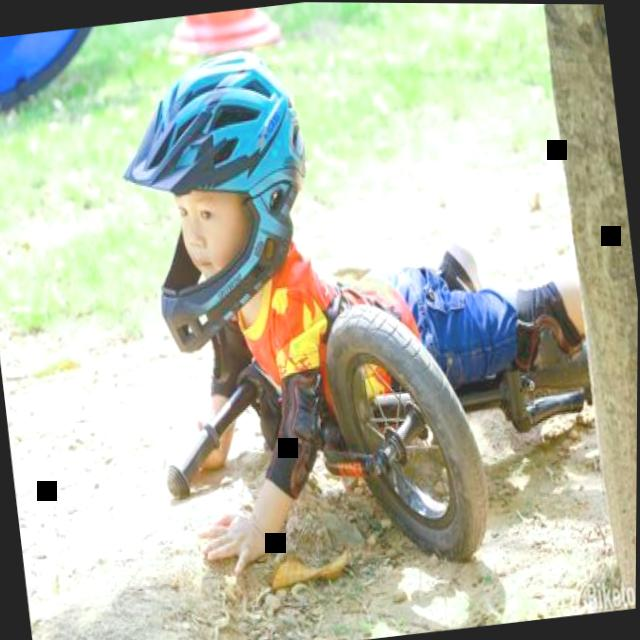Fall-Detected: (126, 28, 622, 591)
